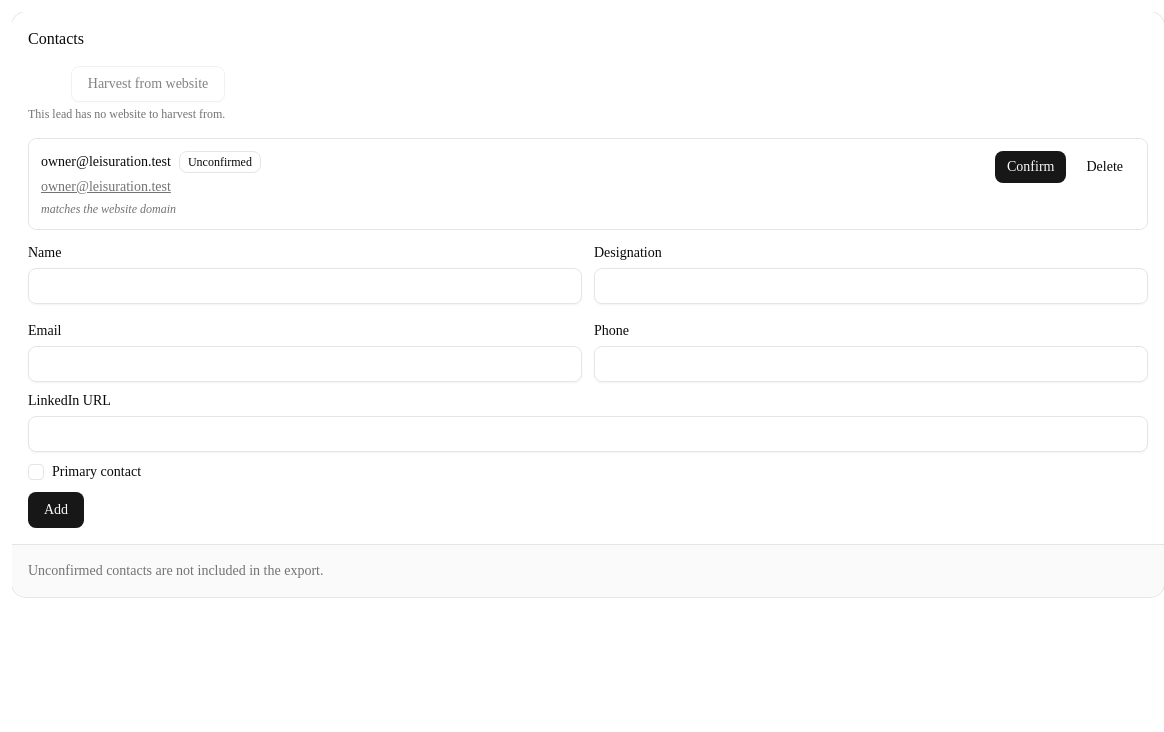
shows a visible alert when confirming a contact fails
Click the button "Confirm": (1031, 167) [995,151,1066,183]
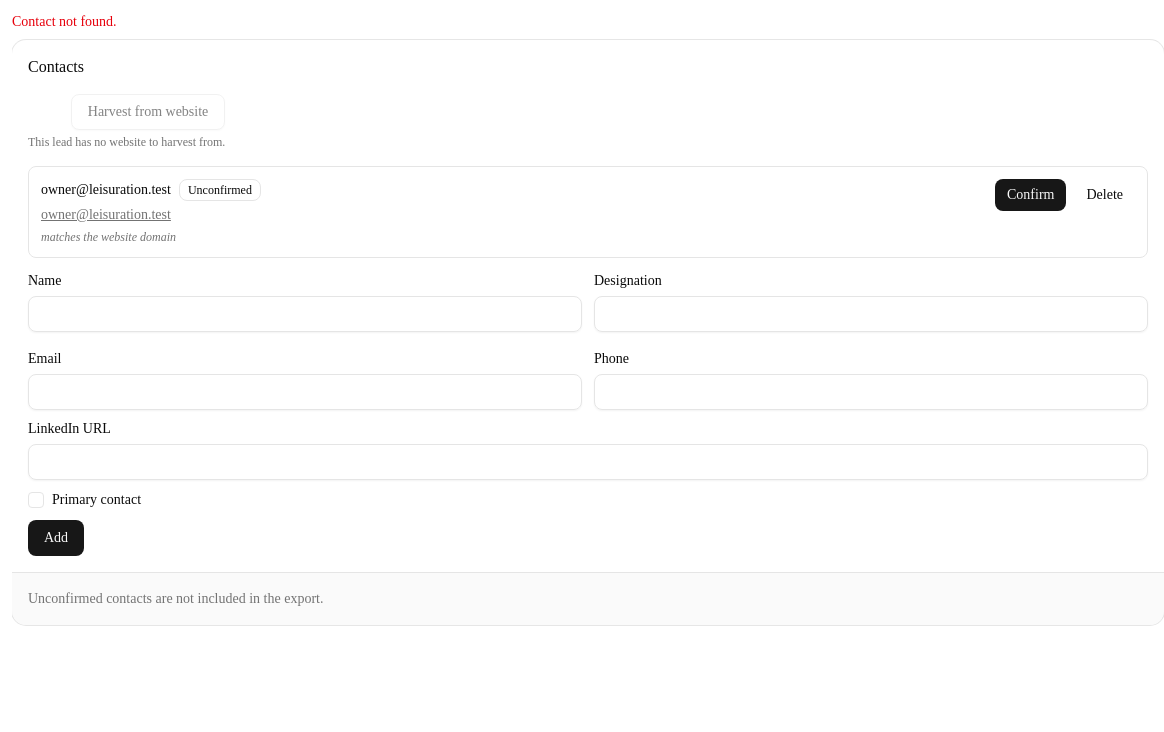
Result: the message reads "Contact not found." at [12,14,117,29]
